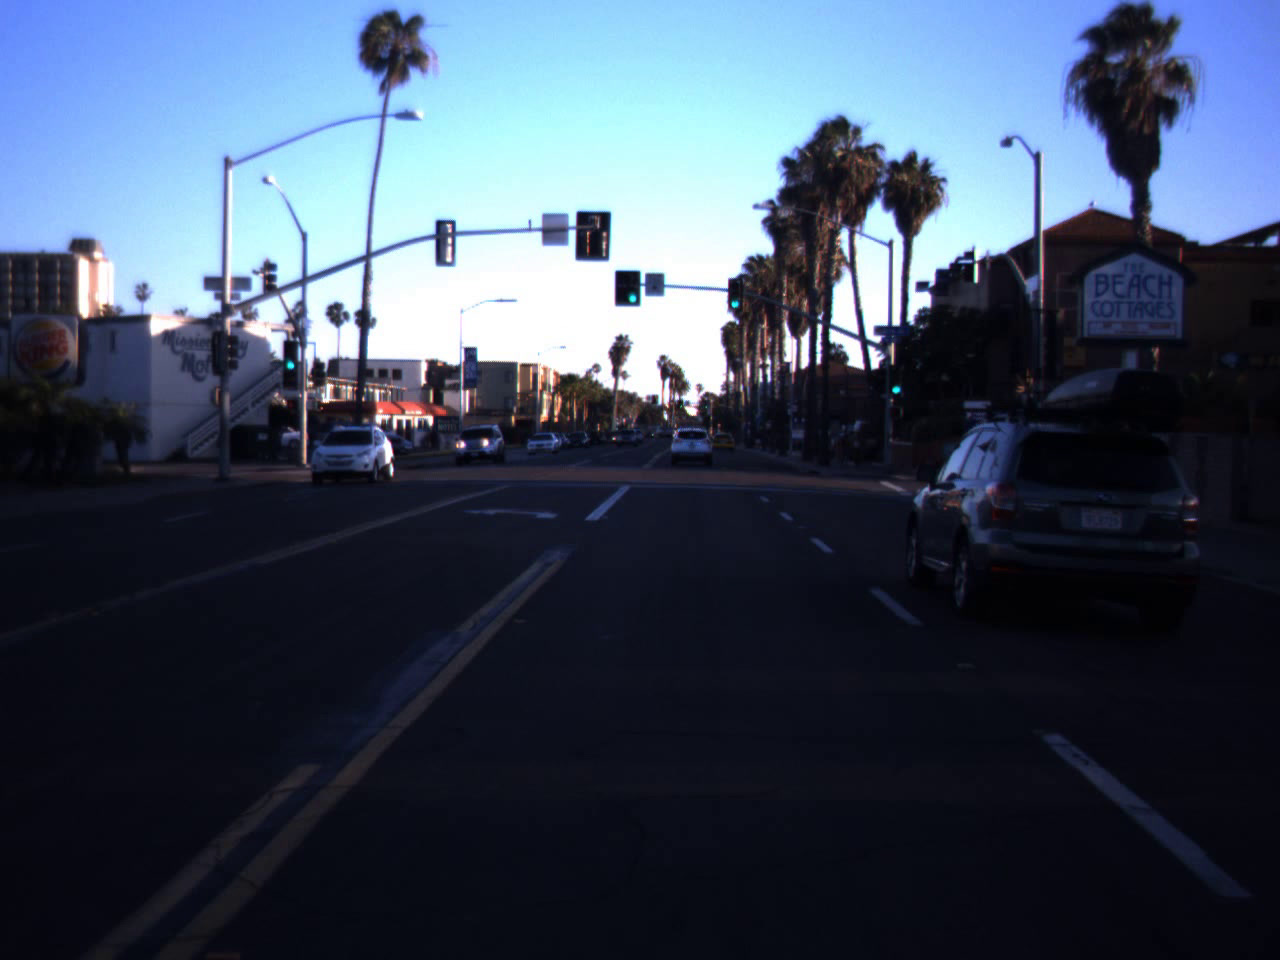go: (282, 341, 300, 371), (624, 275, 642, 305), (887, 370, 905, 395), (726, 284, 744, 309)
